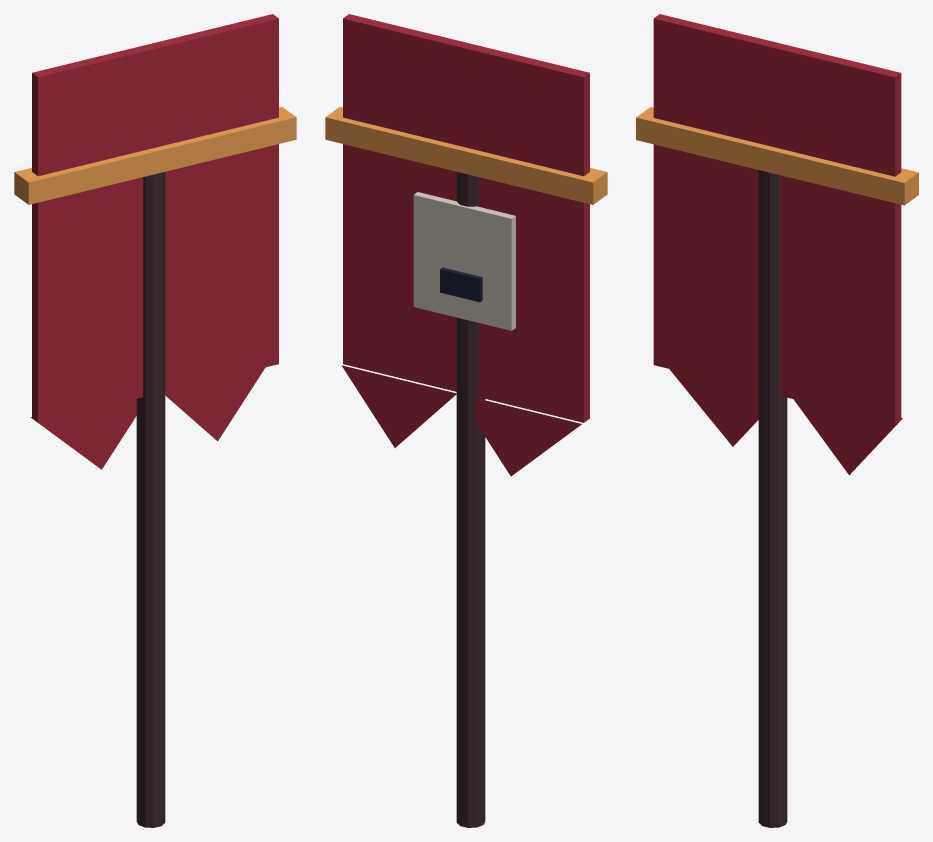
File: dojo_ritual_banner.obj
3 views of the same model, side by side, from view 1: azimuth 30°, elevation 25°; view 2: azimuth 150°, elevation 25°; view 3: azimuth 330°, elevation 25° (orthographic).
Visible parts, largest first — view 1: dojo_ritual_banner; view 2: dojo_ritual_banner; view 3: dojo_ritual_banner.
Part boxes in pixels (x1,y1,x2,y2): dojo_ritual_banner: (14, 14, 296, 827); dojo_ritual_banner: (325, 14, 607, 827); dojo_ritual_banner: (636, 14, 918, 827).
Size of the model in its own units: 3 by 8.3 by 0.35.
